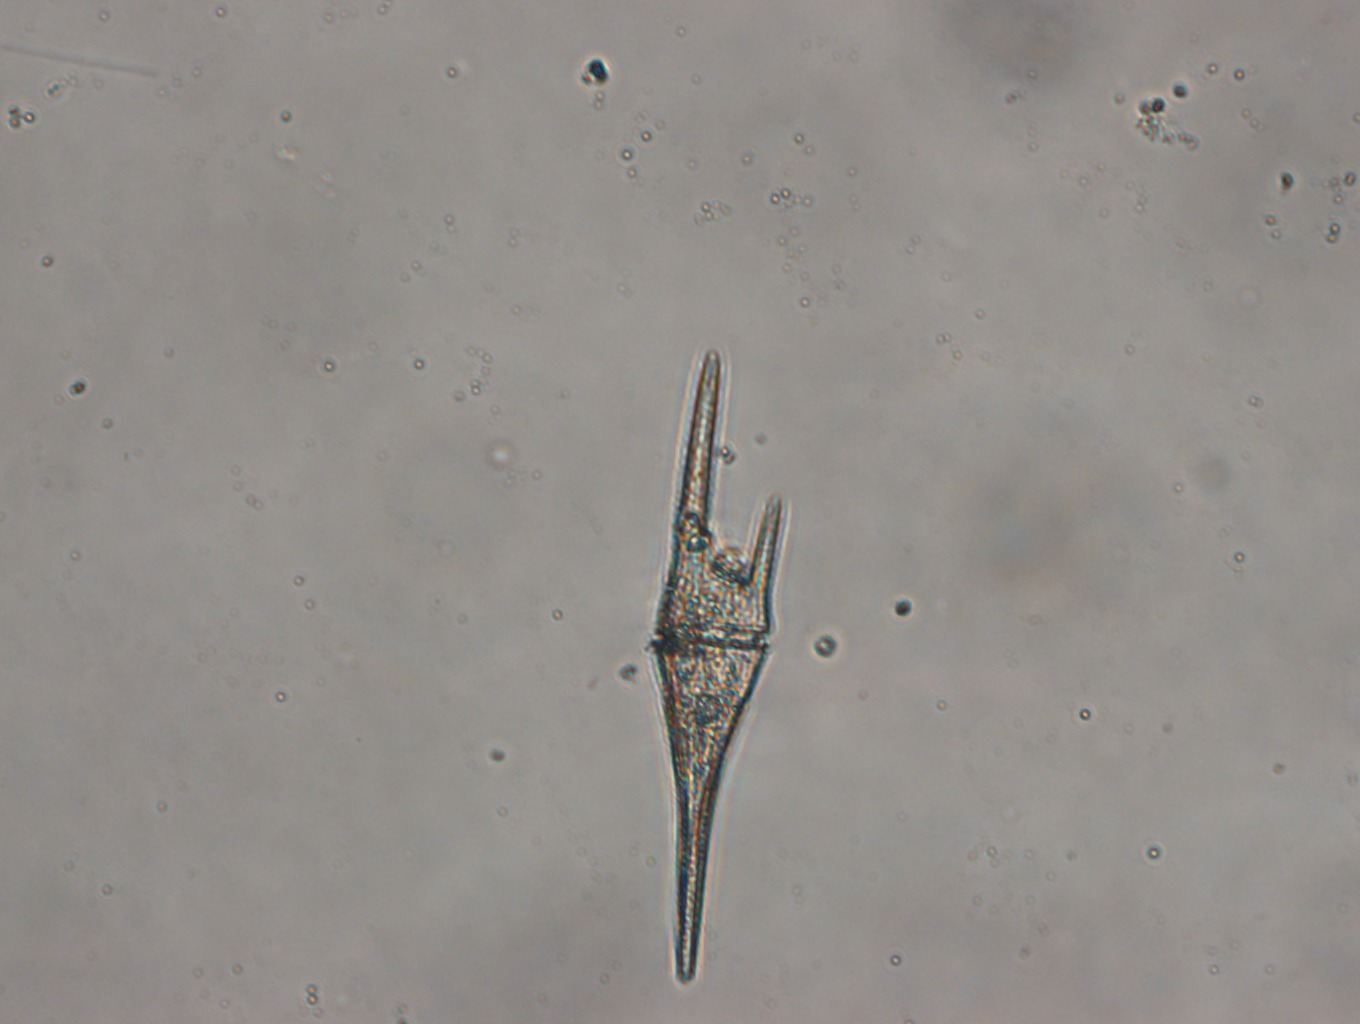ceratium furca: (644, 347, 791, 989)
